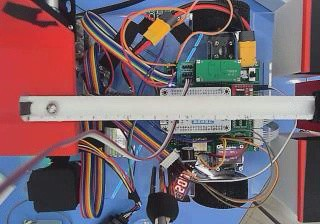ironball: (45, 102, 57, 114)
